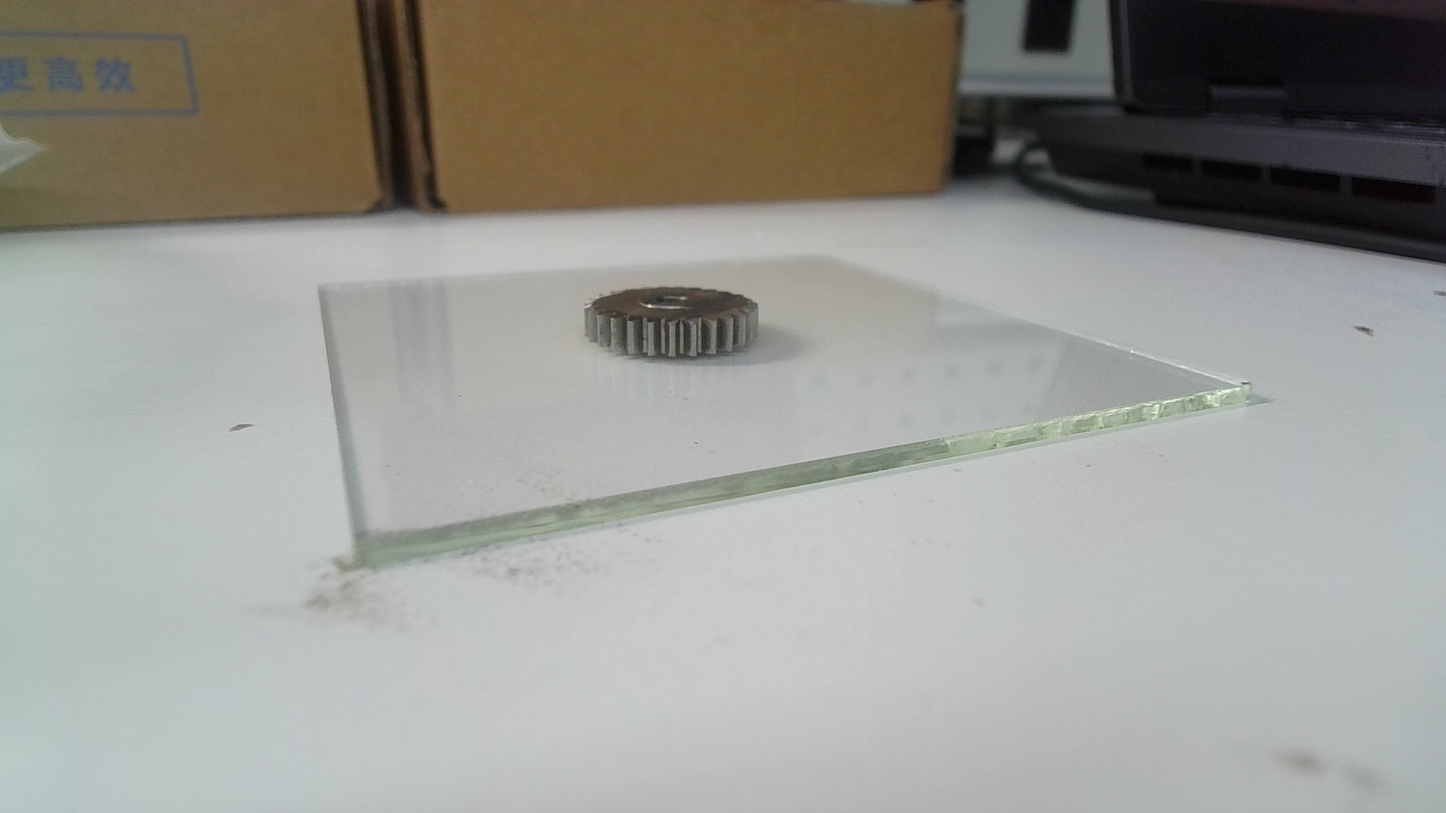gear: (582, 283, 762, 362)
